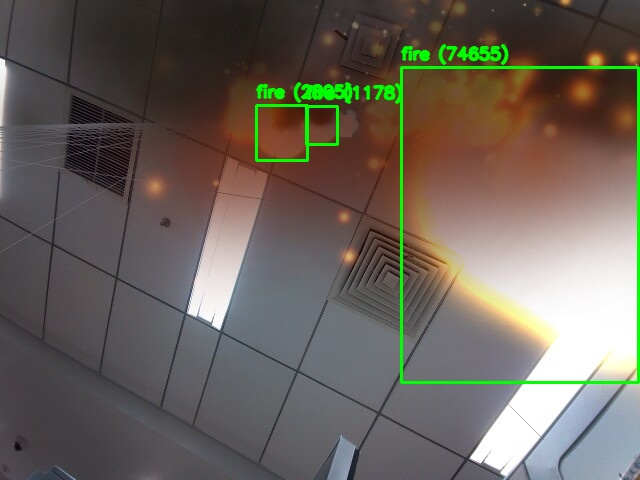fire: (401, 67, 638, 382), (256, 105, 307, 160), (306, 106, 337, 144)
